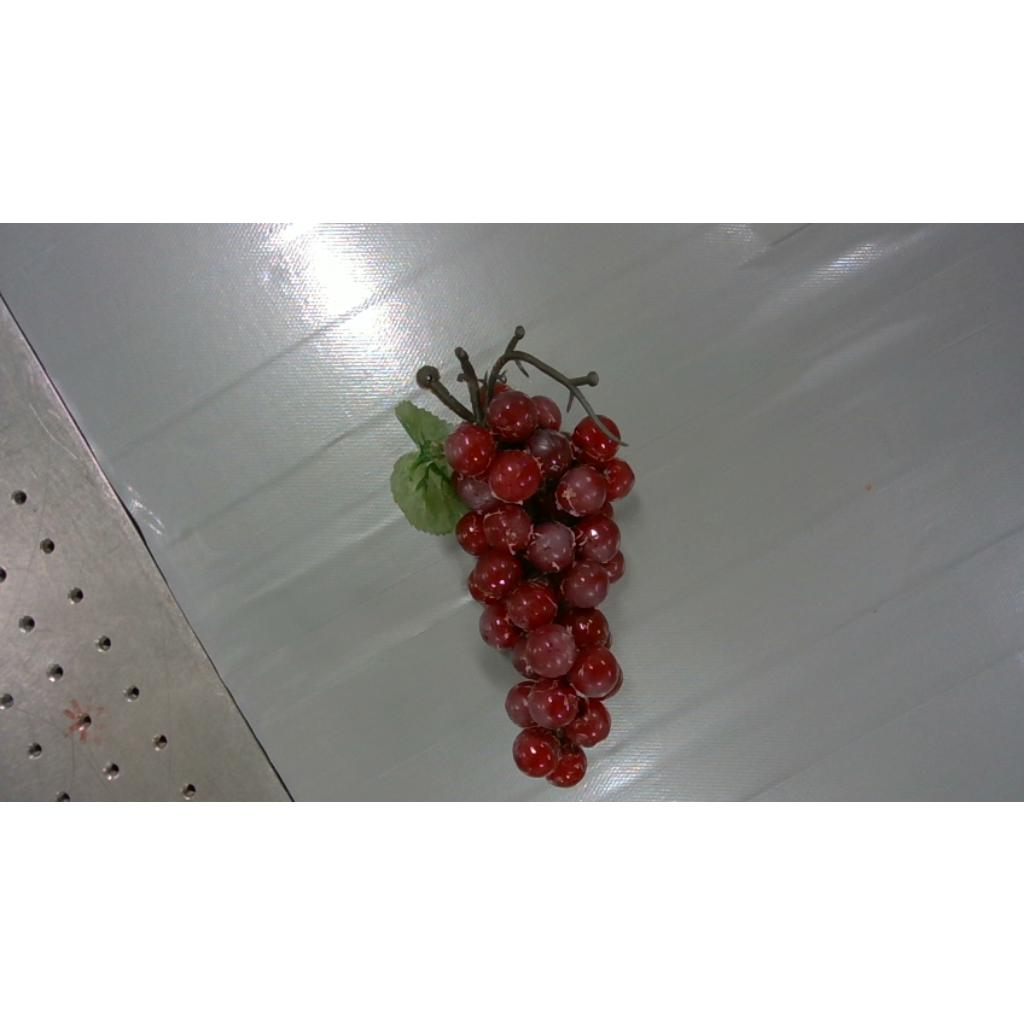grape: (390, 326, 634, 786)
